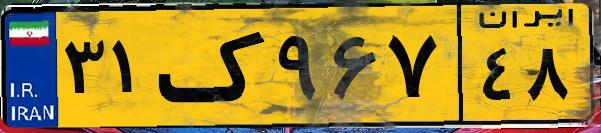1: (110, 28, 158, 98)
3: (57, 26, 110, 100)
4: (475, 38, 525, 113)
6: (330, 28, 385, 110)
7: (385, 28, 445, 110)
8: (525, 38, 570, 115)
9: (270, 28, 330, 110)
ک: (158, 12, 270, 120)
